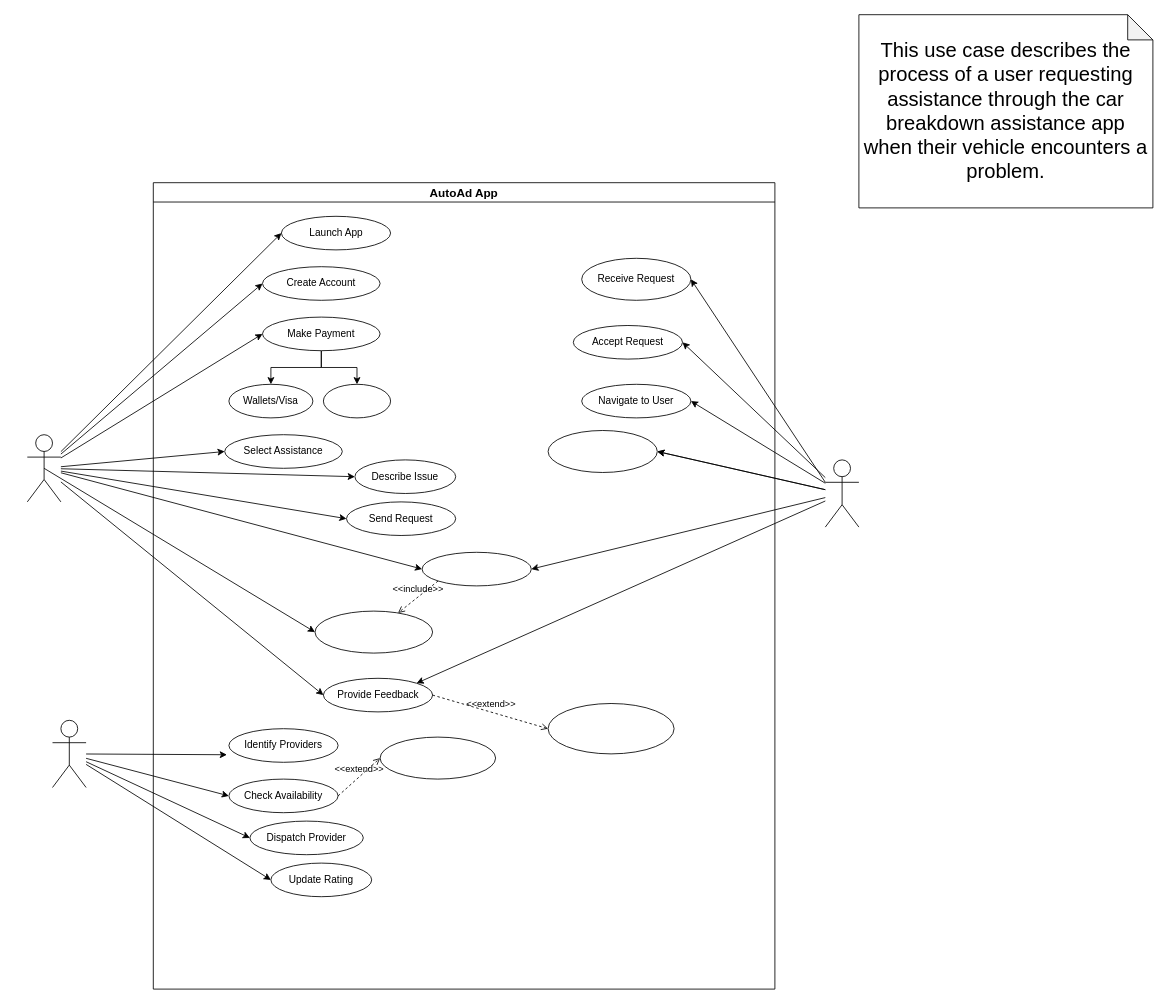
Some shapes in this 1168 by 1004 pixel diagram are drawn without their labels. Each missing label, with the centre of its shape:
"AutoAid Service App" belongs at (x=69, y=753).
"AutoAid User" belongs at (x=43, y=468).
"Cash" belongs at (x=357, y=400).
"Communication" belongs at (x=476, y=568).
"no available service providers" belongs at (x=437, y=757).
"Provide Assistance" belongs at (x=602, y=451).
"Service Provider" belongs at (x=841, y=493).
"Track Service Provider" belongs at (x=373, y=631).
"User chooses to provide feedback and rating" belongs at (x=610, y=728).
